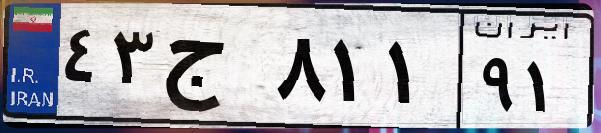1: (385, 28, 445, 110), (330, 28, 385, 110), (525, 38, 570, 115)
3: (110, 28, 158, 98)
4: (57, 26, 110, 100)
8: (270, 28, 330, 110)
9: (475, 38, 525, 113)
ج: (158, 20, 270, 120)
